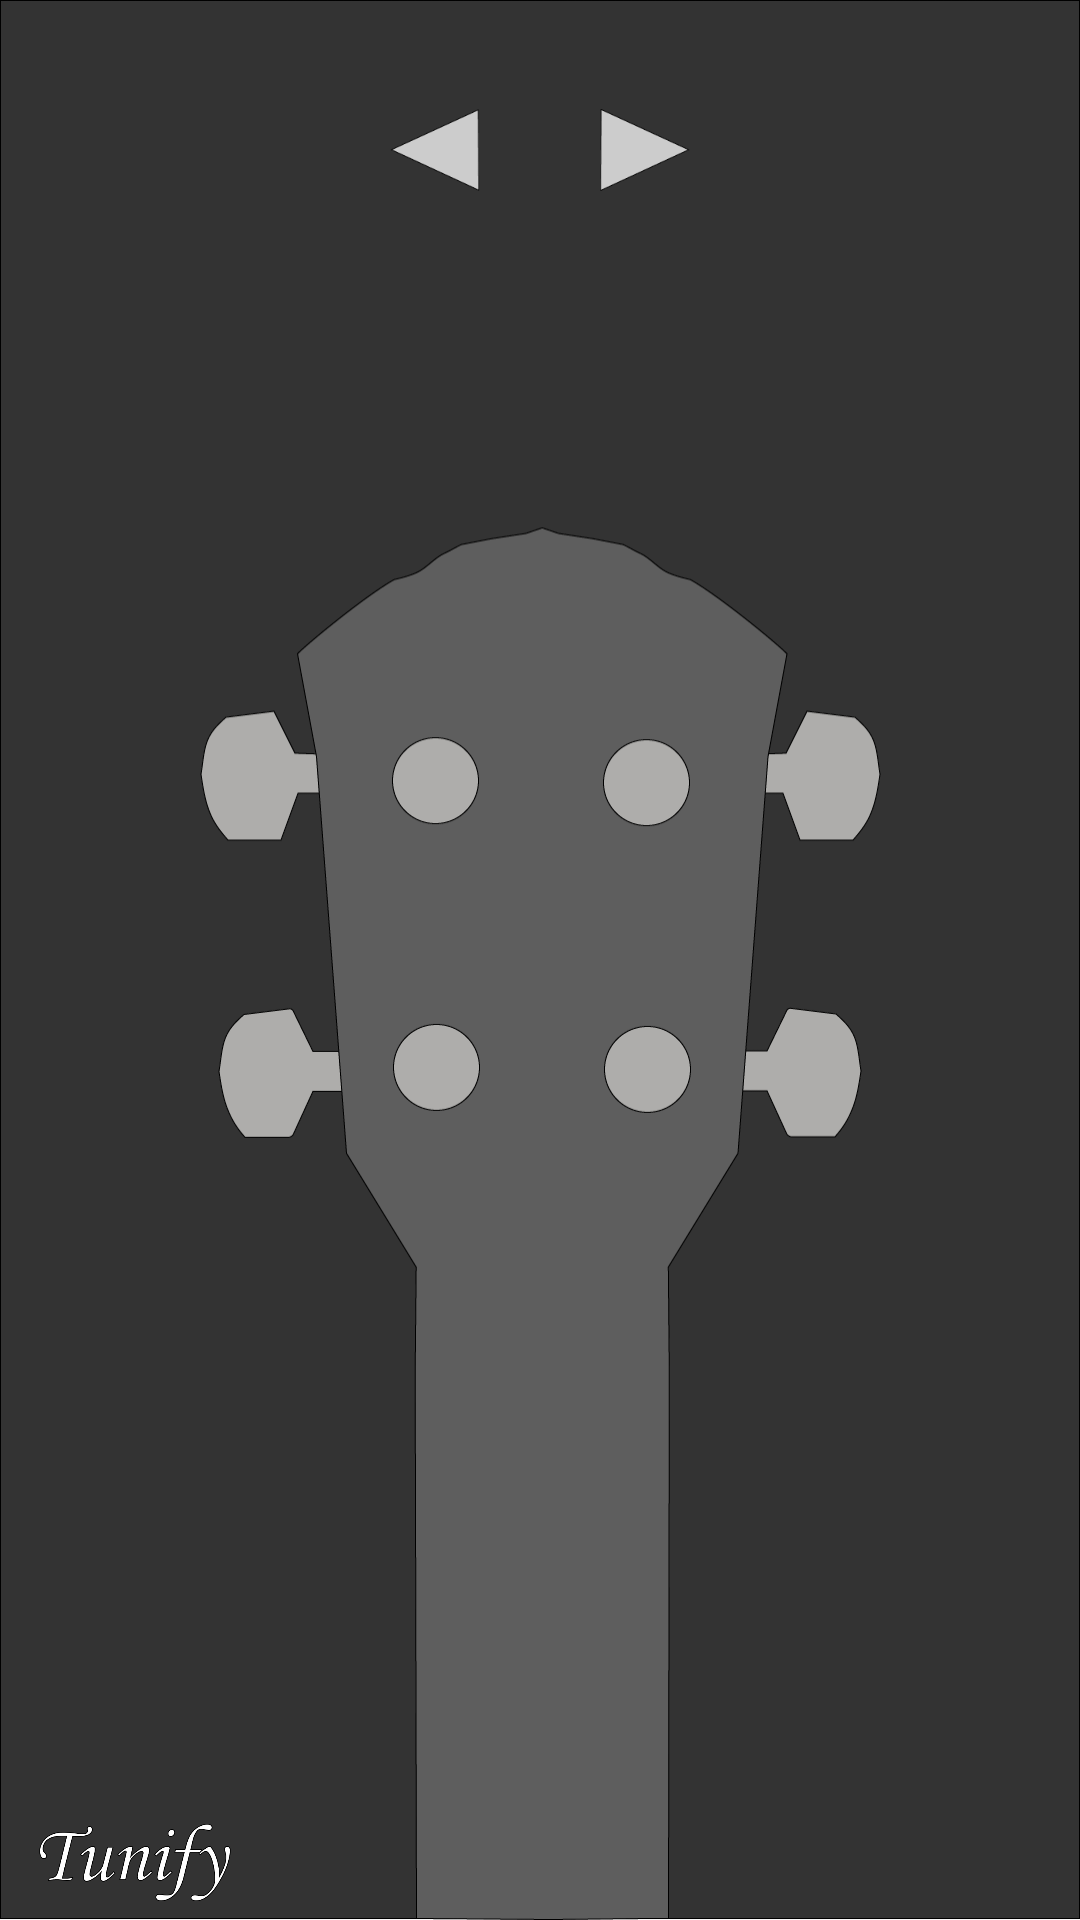

Screen size 1080w x 1920h. Icon name, then its box in pixels as (x1, y1, x2, y2):
leftarrow: (391, 111, 479, 190)
rightarrow: (601, 109, 689, 191)
